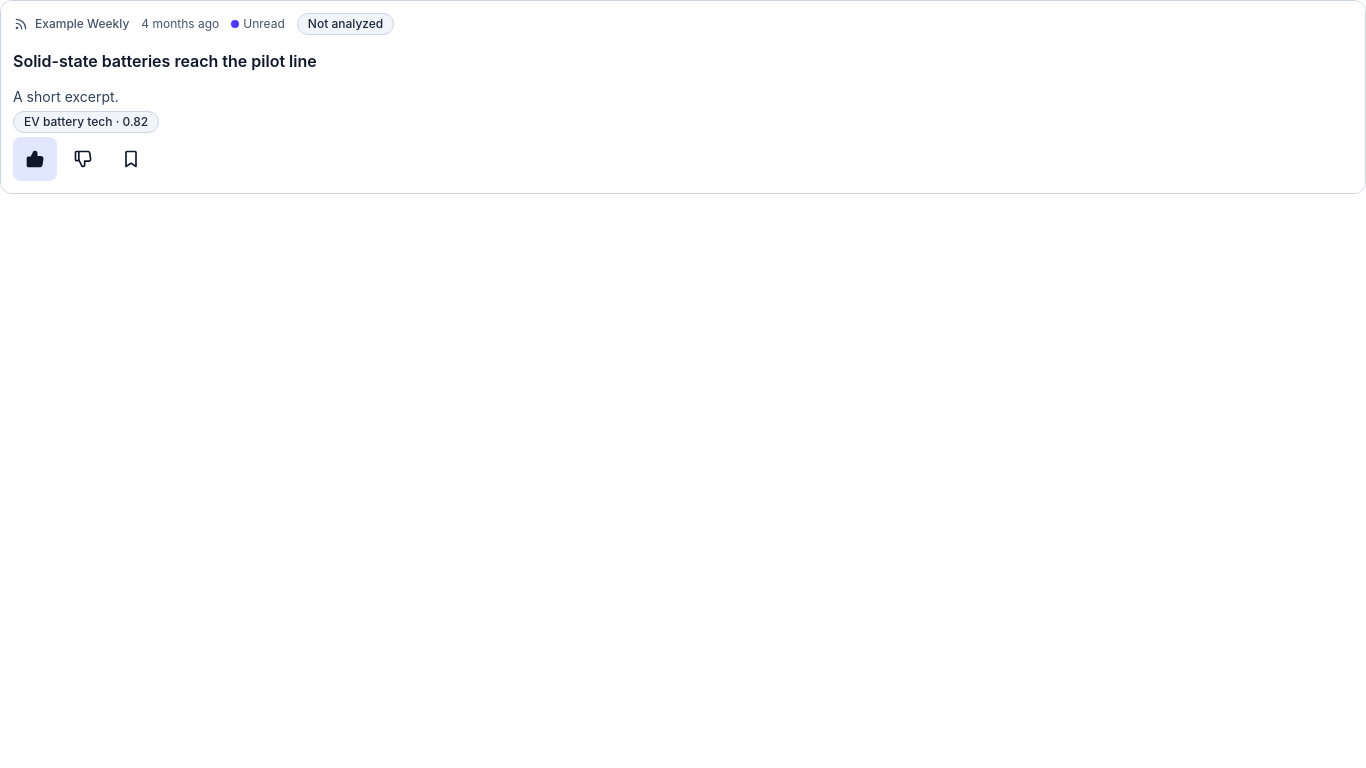
Scenario: reader action toasts › says what a rating that un-rated did
Step 1. Click the button named "Like" → (35, 159), box [13,137,57,181]
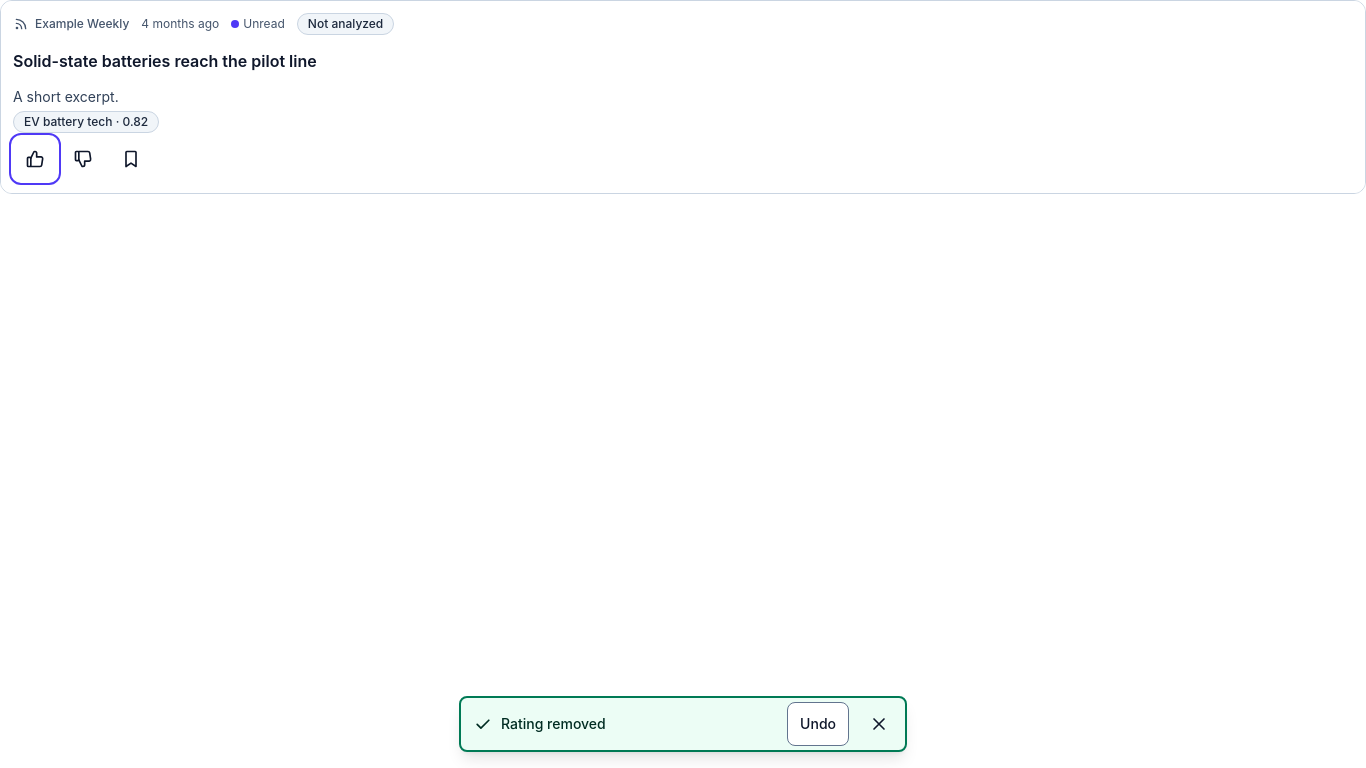
Now the text "Rating removed" is shown, box [459,696,907,752]
